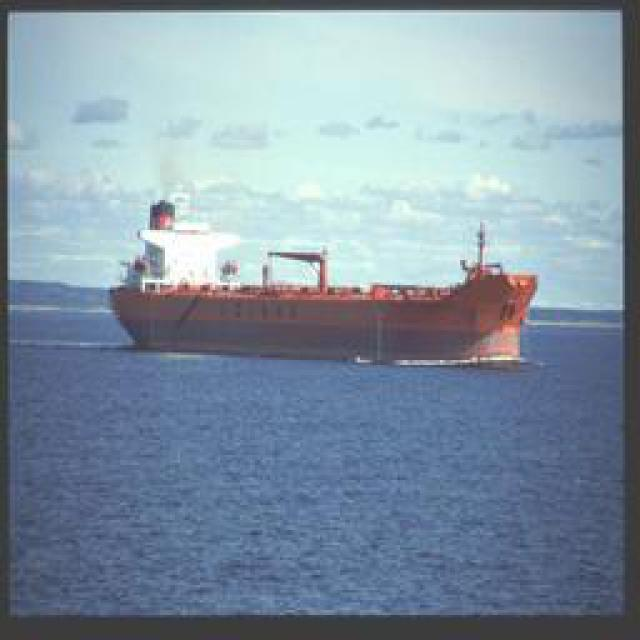Ship: (117, 224, 535, 364)
